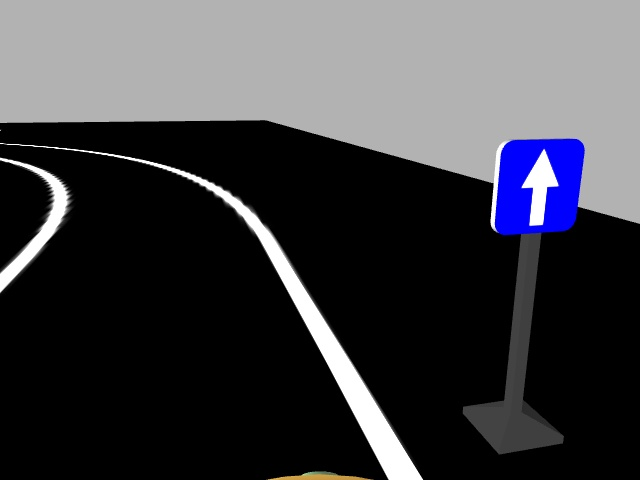OneWay: (492, 139, 580, 232)
